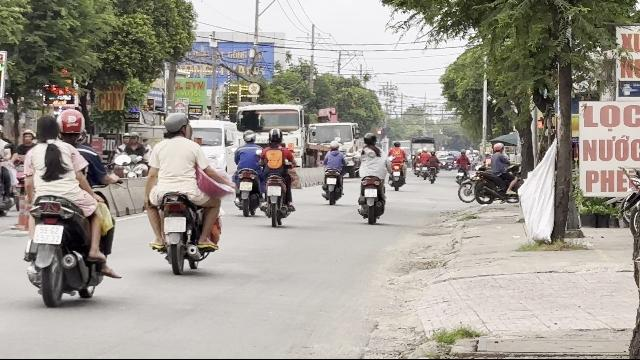helmet: (56, 107, 84, 141), (162, 111, 190, 137)
licenseplate: (33, 224, 63, 244), (164, 216, 186, 232)
motorcyclist: (18, 106, 118, 306), (142, 111, 224, 275)
nohelmet: (35, 115, 59, 142)
